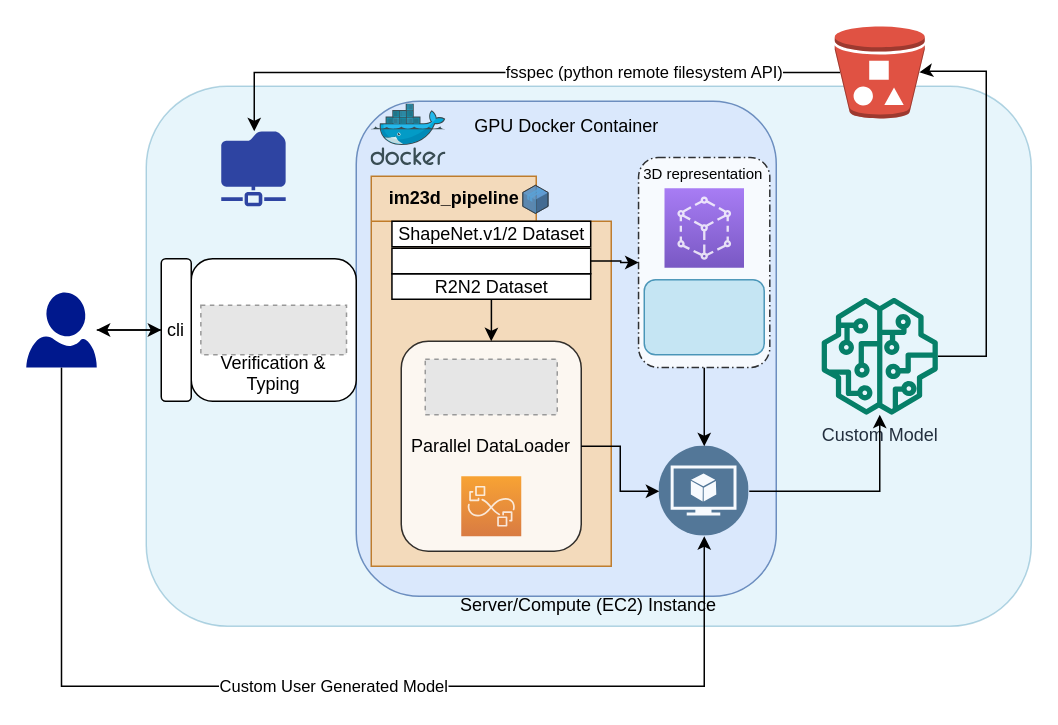
Image size: 1058x725. Some labels were removed from this diagram. Grey dashed boxes stand in for pictures. The shapes that lost their labels are listed below. From the top down, each one's centre as x and y in pixels, then its label:
At pixel 879 71: "Remote Storage mesh and meta object (s3, gcs, etc.)".
At pixel 252 168: "Dataset Folder input".
At pixel 490 260: "Pix3D Dataset".
At pixel 703 316: "- Mesh - Point Cloud - Voxel".
